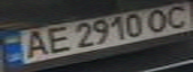0: (124, 11, 148, 38)
1: (106, 15, 130, 40)
2: (72, 20, 96, 50)
9: (90, 17, 112, 45)
A: (15, 28, 54, 60)
C: (160, 2, 193, 29)
E: (39, 25, 75, 55)
O: (142, 7, 175, 33)
